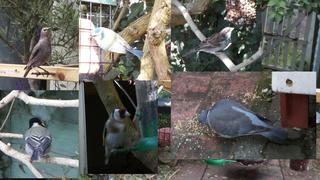blue tit: (89, 27, 144, 59)
goldfinch: (102, 107, 131, 165)
great tit: (24, 117, 52, 164)
sparrow: (182, 27, 235, 58)
starling: (23, 27, 52, 78)
wood pigeon: (198, 98, 290, 145)
